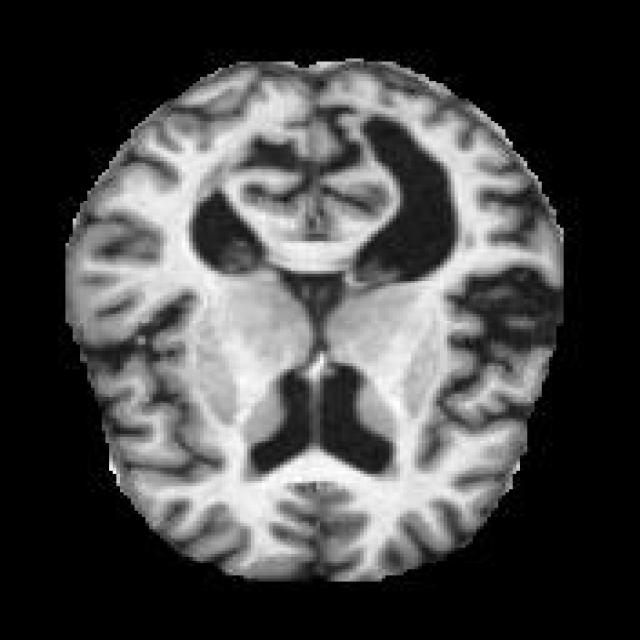Alzheimer: (58, 56, 567, 584)
